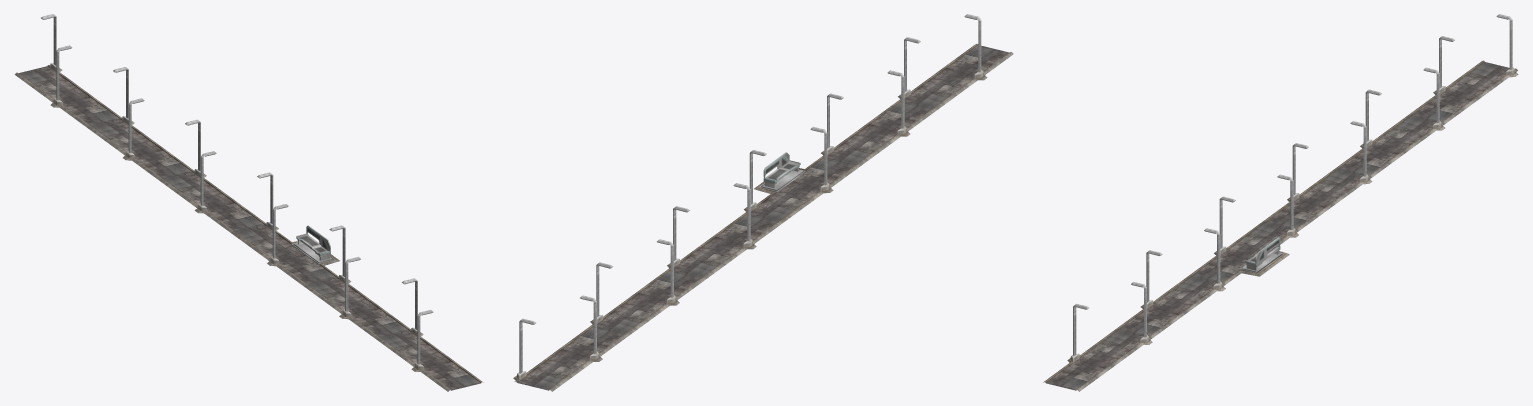
Rendered from FIetspadAlles.fbx.
3 views of the same model, side by side, from view 1: azimuth 30°, elevation 25°; view 2: azimuth 150°, elevation 25°; view 3: azimuth 330°, elevation 25° (orthographic). The views are drawn at different scales.
Parts seen in each view (by area): view 1: polySurface60, polySurface5, polySurface70, polySurface55, polySurface65, polySurface50; view 2: polySurface55, polySurface50, polySurface5, polySurface60, polySurface70, polySurface65; view 3: polySurface55, polySurface70, polySurface60, polySurface65, polySurface50, polySurface5.
Boxes of the visible parts, x1,y1,x2,y2 form: polySurface60: [159, 170, 266, 232]; polySurface5: [231, 223, 339, 285]; polySurface70: [14, 65, 121, 127]; polySurface55: [376, 329, 483, 391]; polySurface65: [87, 118, 194, 179]; polySurface50: [303, 276, 410, 338]; polySurface55: [898, 43, 1013, 110]; polySurface50: [821, 100, 936, 166]; polySurface5: [744, 156, 859, 222]; polySurface60: [667, 213, 782, 278]; polySurface70: [513, 325, 628, 391]; polySurface65: [590, 269, 705, 335]; polySurface55: [1043, 328, 1152, 391]; polySurface70: [1409, 60, 1518, 123]; polySurface60: [1263, 167, 1372, 230]; polySurface65: [1336, 114, 1445, 177]; polySurface50: [1116, 275, 1225, 337]; polySurface5: [1189, 221, 1298, 284].
Bounding box in the file's own units: 6.87 × 6.38 × 89.14.
